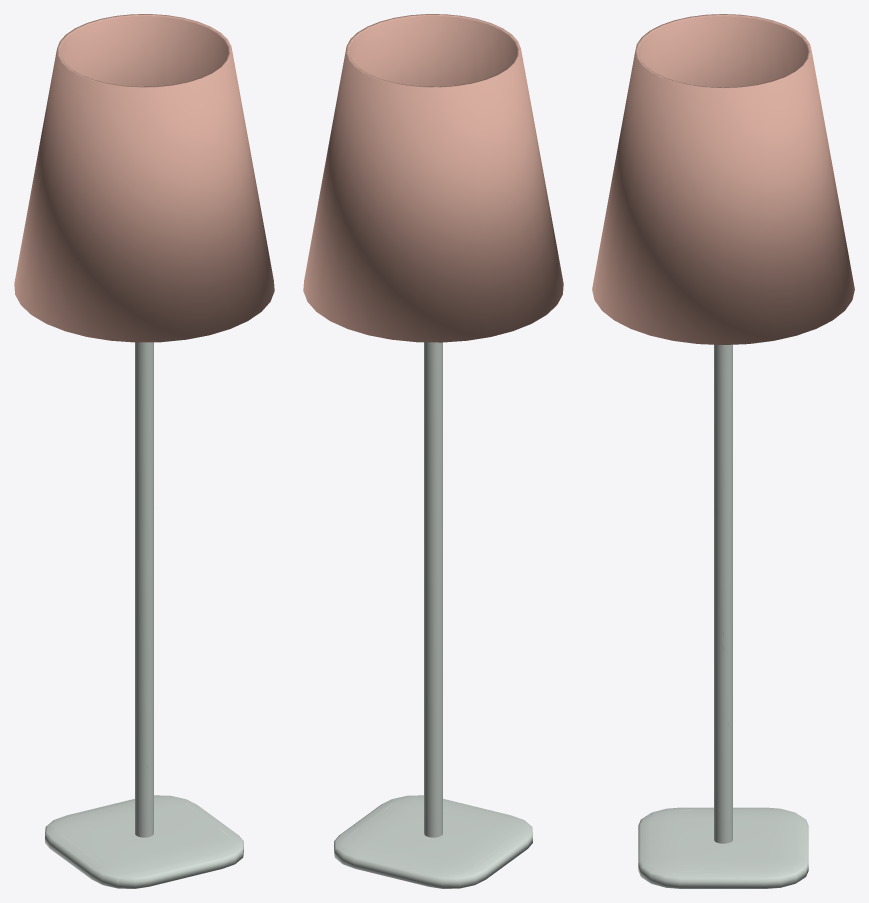
File: LampeNormale.fbx
3 views of the same model, side by side, from view 1: azimuth 30°, elevation 25°; view 2: azimuth 150°, elevation 25°; view 3: azimuth 270°, elevation 25° (orthographic).
Visible parts, largest first — view 1: Lampenschirm, Roundcube, Cylinder.001; view 2: Lampenschirm, Roundcube, Cylinder.001; view 3: Lampenschirm, Roundcube, Cylinder.001.
Part boxes in pixels (<box>): Lampenschirm: <box>14,14,274,342</box>; Roundcube: <box>45,795,243,888</box>; Cylinder.001: <box>135,342,153,837</box>; Lampenschirm: <box>303,14,563,342</box>; Roundcube: <box>334,795,532,888</box>; Cylinder.001: <box>424,342,442,837</box>; Lampenschirm: <box>592,14,854,344</box>; Roundcube: <box>638,807,808,888</box>; Cylinder.001: <box>714,344,732,843</box>.
Bounding box in the file's own units: 143 × 483 × 143.
Materials: 1 (1 with a texture image).
